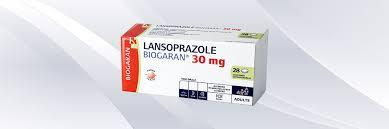Cardboard: (102, 21, 296, 120)
